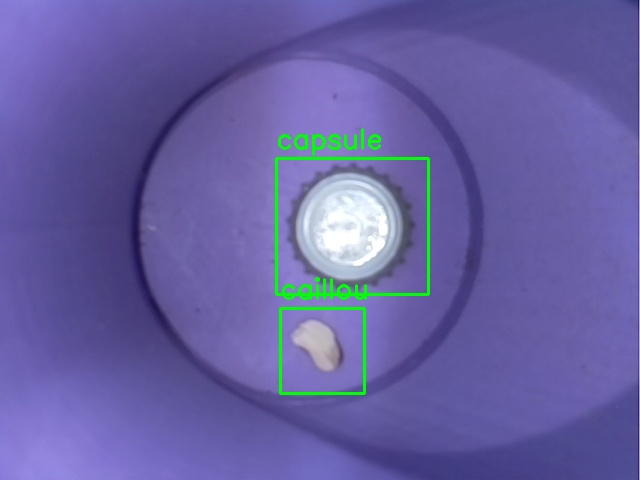caillou: (280, 308, 364, 393)
capsule: (276, 158, 428, 294)
